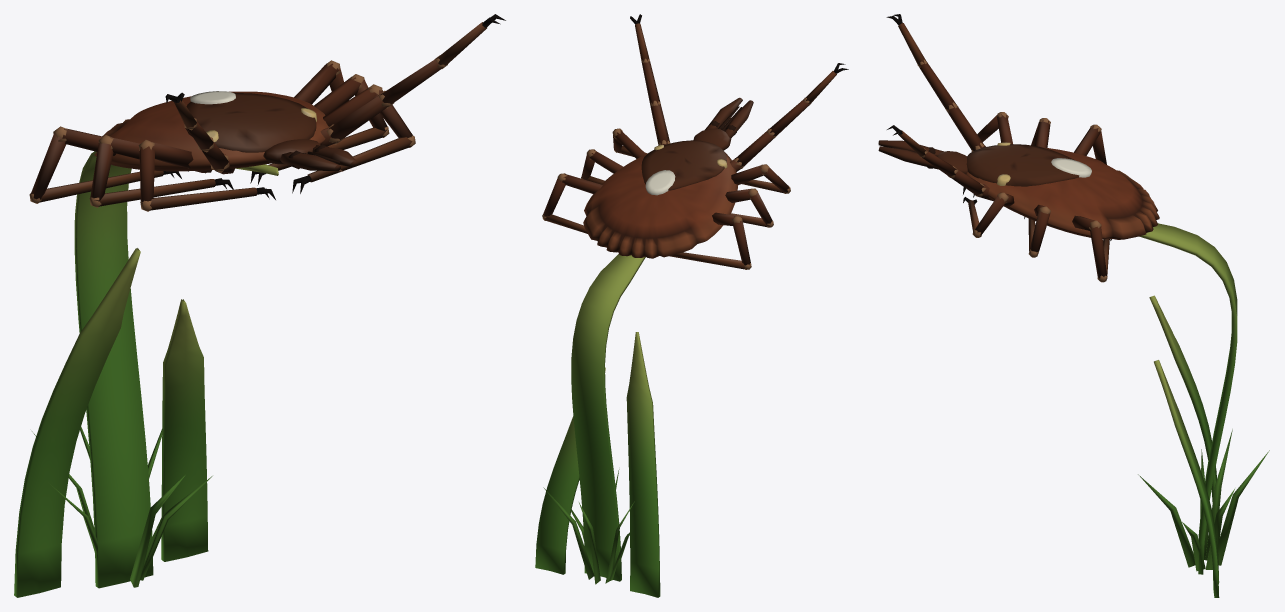
The model's file is LoneStarTick.fbx.
3 views of the same model, side by side, from view 1: azimuth 30°, elevation 25°; view 2: azimuth 150°, elevation 25°; view 3: azimuth 270°, elevation 25° (orthographic). The views are drawn at different scales.
Parts seen in each view (by area): view 1: LoneStarTick; view 2: LoneStarTick; view 3: LoneStarTick.
Part boxes in pixels (left/top/right/bottom): LoneStarTick: left=14, top=14, right=505, bottom=597; LoneStarTick: left=535, top=14, right=848, bottom=597; LoneStarTick: left=878, top=14, right=1269, bottom=597.
Bounding box in the file's own units: 0.7167 × 1.37 × 0.9848.
